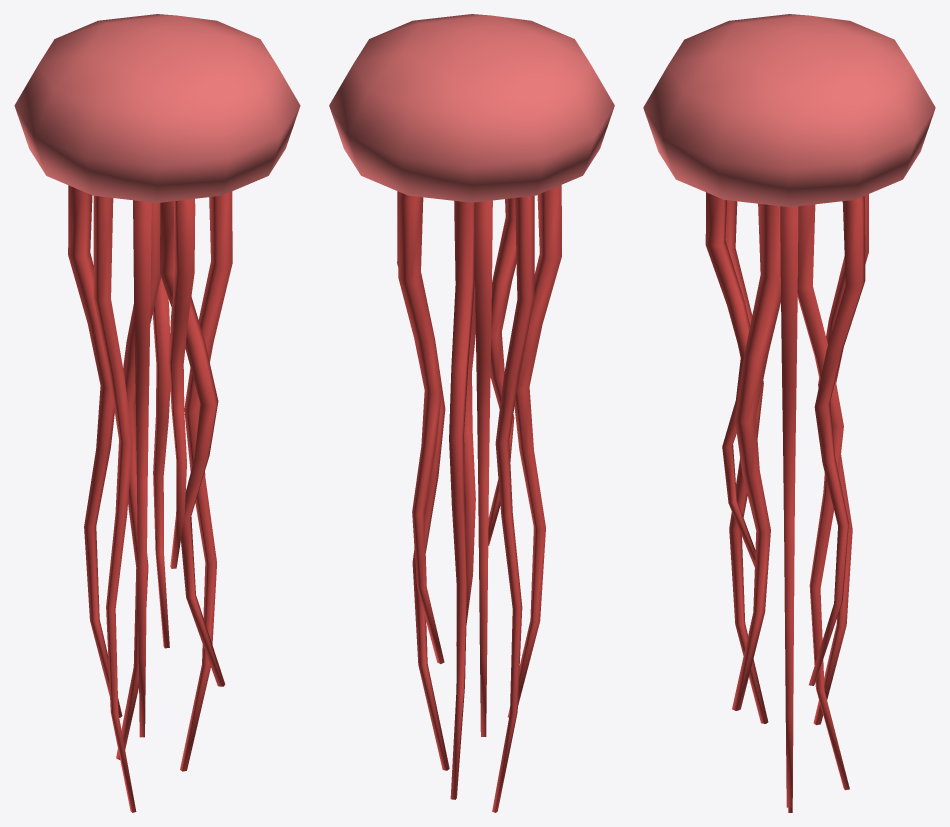
File: Medusa_003.glb
The picture shows the model from 3 angles, left to right: view 1: azimuth 30°, elevation 25°; view 2: azimuth 150°, elevation 25°; view 3: azimuth 270°, elevation 25°; orthographic projection. The views are drawn at different scales.
Parts seen in each view (by area): view 1: Medusa_003; view 2: Medusa_003; view 3: Medusa_003.
Part boxes in pixels (x1=…): Medusa_003: x1=14, y1=14, x2=300, y2=812; Medusa_003: x1=329, y1=14, x2=614, y2=812; Medusa_003: x1=643, y1=14, x2=935, y2=812.
Size of the model in its own units: 0.6191 by 1.85 by 0.6191.
Materials: 1 (1 with a texture image).
